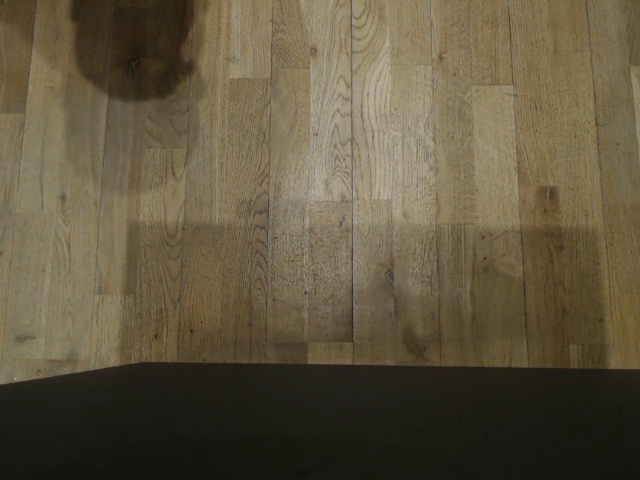beer: (71, 147, 134, 236)
